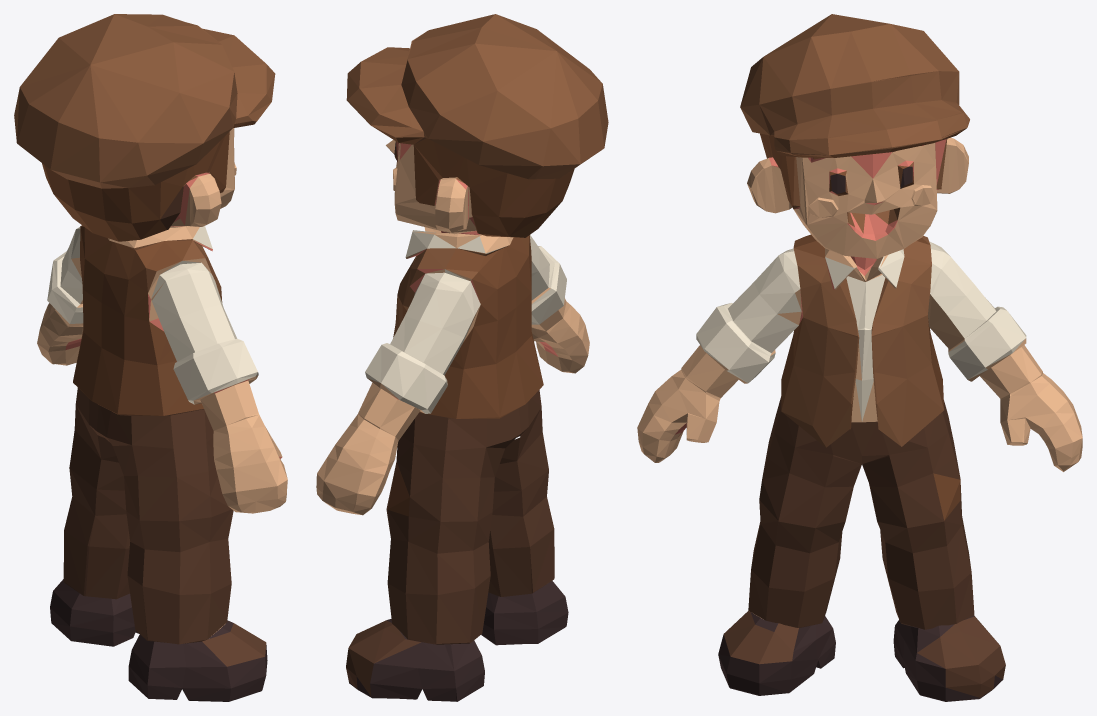
File: townsperson.glb
The picture shows the model from 3 angles, left to right: view 1: azimuth 30°, elevation 25°; view 2: azimuth 150°, elevation 25°; view 3: azimuth 270°, elevation 25°; orthographic projection.
Visible parts, largest first — view 1: #5B3A29, #8A5A3B, #7A4B2E, #E8B48A, #F2E6D0, #3B2A2A, #E07A6A; view 2: #5B3A29, #8A5A3B, #7A4B2E, #E8B48A, #F2E6D0, #3B2A2A, #E07A6A; view 3: #8A5A3B, #5B3A29, #E8B48A, #F2E6D0, #3B2A2A, #7A4B2E, #E07A6A.
Boxes of the visible parts, <box> form: #5B3A29: <box>63,186,266,666</box>; #8A5A3B: <box>14,14,275,302</box>; #7A4B2E: <box>42,121,256,415</box>; #E8B48A: <box>37,128,287,634</box>; #F2E6D0: <box>47,226,258,404</box>; #3B2A2A: <box>50,579,267,701</box>; #E07A6A: <box>65,172,281,458</box>; #5B3A29: <box>346,137,554,696</box>; #8A5A3B: <box>346,14,608,337</box>; #7A4B2E: <box>374,127,574,516</box>; #E8B48A: <box>316,140,589,515</box>; #F2E6D0: <box>365,230,566,413</box>; #3B2A2A: <box>349,141,568,701</box>; #E07A6A: <box>392,142,558,399</box>; #8A5A3B: <box>740,14,969,447</box>; #5B3A29: <box>723,151,1005,697</box>; #E8B48A: <box>637,137,1082,619</box>; #F2E6D0: <box>696,241,1026,421</box>; #3B2A2A: <box>718,166,1002,701</box>; #7A4B2E: <box>760,129,965,520</box>; #E07A6A: <box>675,139,1030,436</box>.
Bounding box in the file's own units: 0.3816 × 1 × 0.636.
